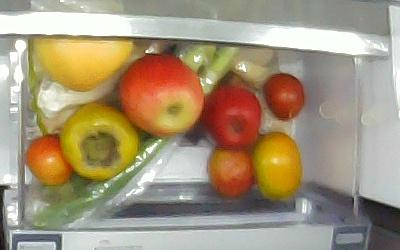apple: (119, 53, 204, 135), (204, 86, 261, 148)
grapefruit: (35, 35, 134, 94)
persimmon: (61, 105, 139, 180), (252, 132, 307, 201)
prune: (25, 135, 74, 186), (207, 146, 254, 196), (264, 74, 305, 121)
